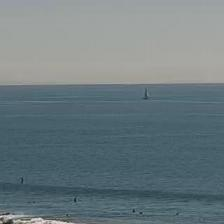surfer: (20, 177, 24, 183), (27, 201, 35, 204), (73, 198, 77, 202), (139, 211, 143, 215), (132, 209, 136, 212), (176, 213, 180, 216), (66, 214, 69, 216)
